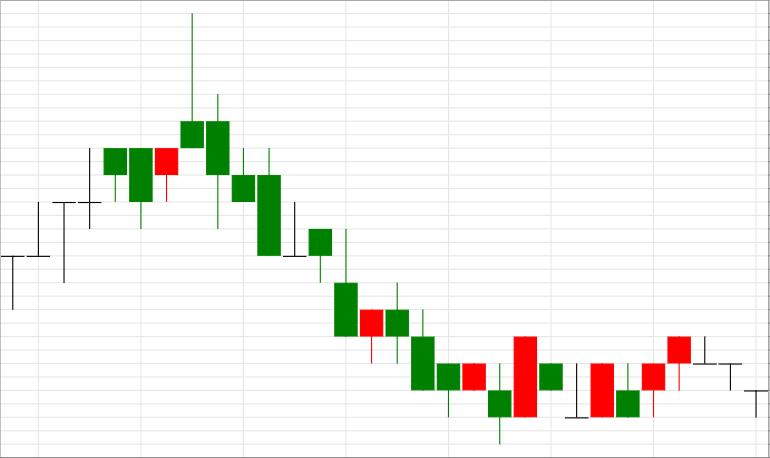shooting_star_fall: (0, 14, 203, 310)
